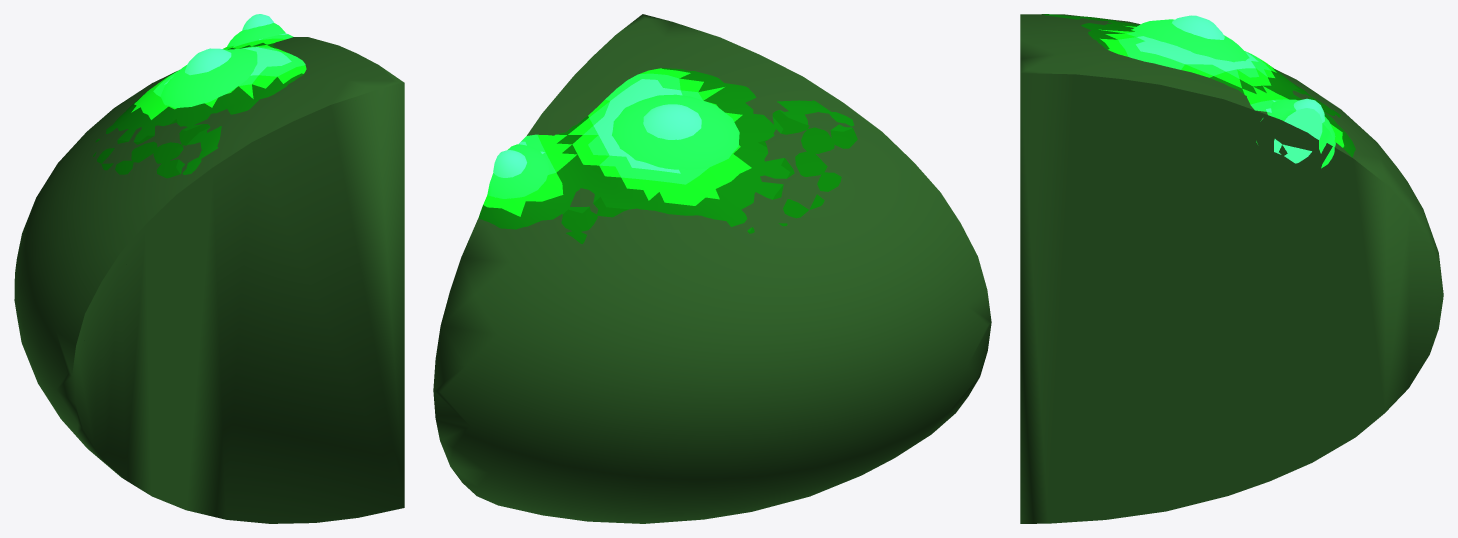
File: glass_globe_tl.glb
3 renders of one model, left to right at view 1: azimuth 30°, elevation 25°; view 2: azimuth 150°, elevation 25°; view 3: azimuth 270°, elevation 25°, orthographic. The views are drawn at different scales.
Visible parts, largest first — view 1: glass_globe_tl_globe_glass, glass_globe_tl_globe_core, glass_globe_tl_globe_lobe_a, glass_globe_tl_globe_lobe_a_core, glass_globe_tl_globe_lobe_b; view 2: glass_globe_tl_globe_glass, glass_globe_tl_globe_core, glass_globe_tl_globe_lobe_a, glass_globe_tl_globe_lobe_b, glass_globe_tl_globe_lobe_a_core, glass_globe_tl_globe_lobe_b_core; view 3: glass_globe_tl_globe_glass, glass_globe_tl_globe_core, glass_globe_tl_globe_lobe_a, glass_globe_tl_globe_lobe_b_core, glass_globe_tl_globe_lobe_b, glass_globe_tl_globe_lobe_a_core.
Boxes of the visible parts, x1,y1,x2,y2 form: glass_globe_tl_globe_glass: [14, 37, 404, 523]; glass_globe_tl_globe_core: [93, 33, 306, 178]; glass_globe_tl_globe_lobe_a: [160, 48, 257, 108]; glass_globe_tl_globe_lobe_a_core: [185, 48, 231, 75]; glass_globe_tl_globe_lobe_b: [227, 23, 285, 46]; glass_globe_tl_globe_glass: [433, 14, 991, 523]; glass_globe_tl_globe_core: [478, 68, 857, 243]; glass_globe_tl_globe_lobe_a: [612, 94, 739, 169]; glass_globe_tl_globe_lobe_b: [487, 144, 549, 198]; glass_globe_tl_globe_lobe_a_core: [643, 104, 701, 139]; glass_globe_tl_globe_lobe_b_core: [493, 150, 526, 177]; glass_globe_tl_globe_glass: [1020, 14, 1443, 523]; glass_globe_tl_globe_core: [1042, 14, 1355, 157]; glass_globe_tl_globe_lobe_a: [1132, 19, 1249, 62]; glass_globe_tl_globe_lobe_b_core: [1274, 98, 1324, 163]; glass_globe_tl_globe_lobe_b: [1256, 99, 1335, 168]; glass_globe_tl_globe_lobe_a_core: [1172, 15, 1224, 39].
Bounding box in the file's own units: 22.89 × 28 × 23.79.
